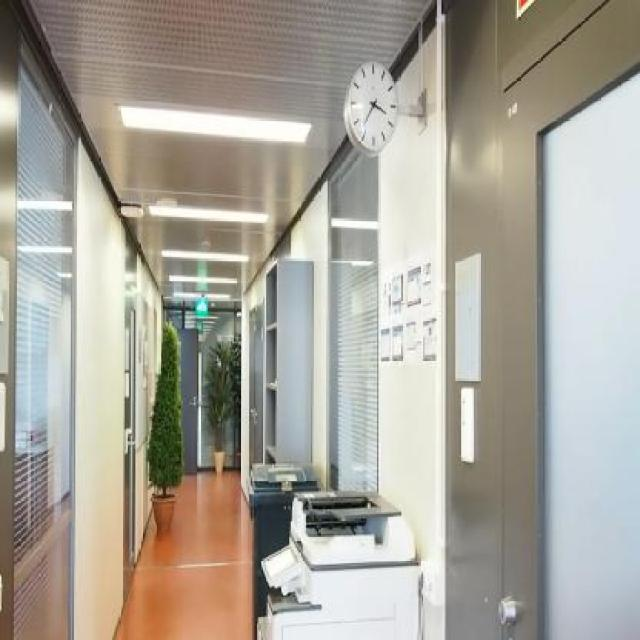person: (192, 284, 214, 318)
